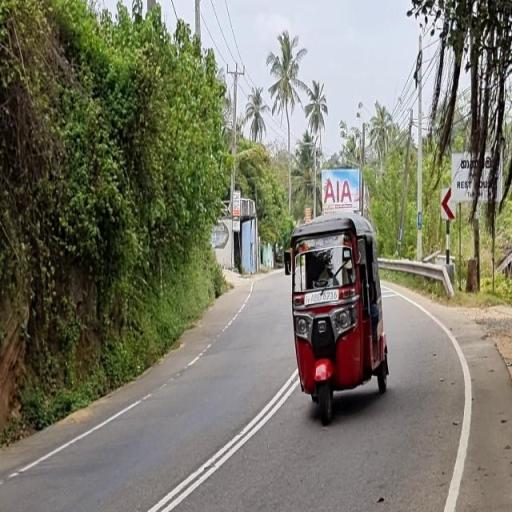double_white_line: (146, 370, 300, 511)
